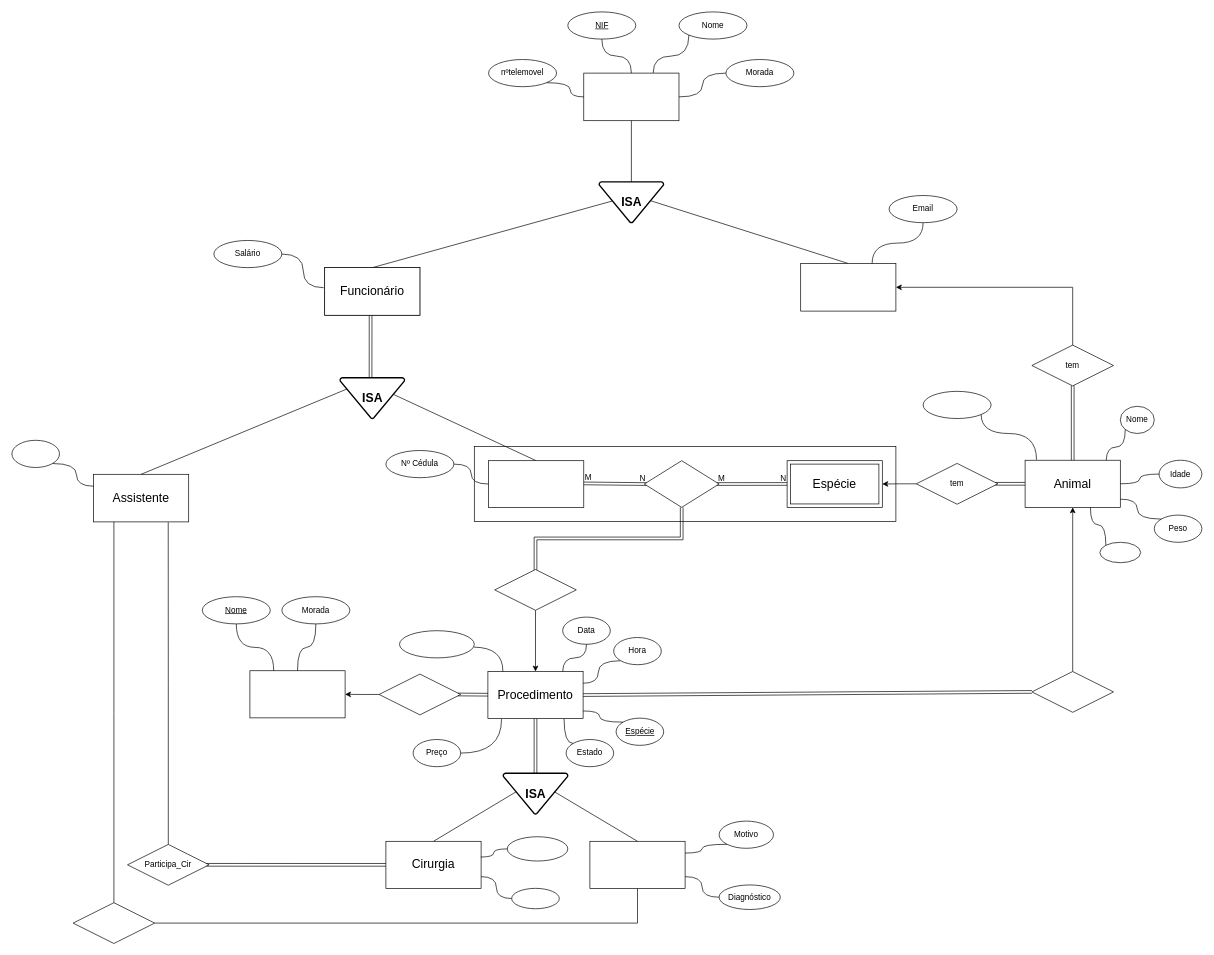
Image size: 1214x955. Some labels were removed from this diagram. The shapes that lost their labels are listed below. From the top down, each one's centre as x and y in pixels, then its label:
At (x=631, y=96): "Pessoa".
At (x=848, y=287): "Dono".
At (x=956, y=405): "id_animal".
At (x=35, y=454): "Cargo".
At (x=536, y=483): "Veterinário".
At (x=681, y=483): "Especializa-se".
At (x=1120, y=552): "Raça".
At (x=535, y=589): "Realiza_pro".
At (x=436, y=644): "id_procedimento".
At (x=297, y=694): "Clínica".
At (x=419, y=694): "Realiza".
At (x=1072, y=691): "Tem_pro".
At (x=537, y=848): "Resultado".
At (x=637, y=864): "Consulta".
At (x=535, y=898): "Tipo".
At (x=113, y=923): "Participa_Con".
